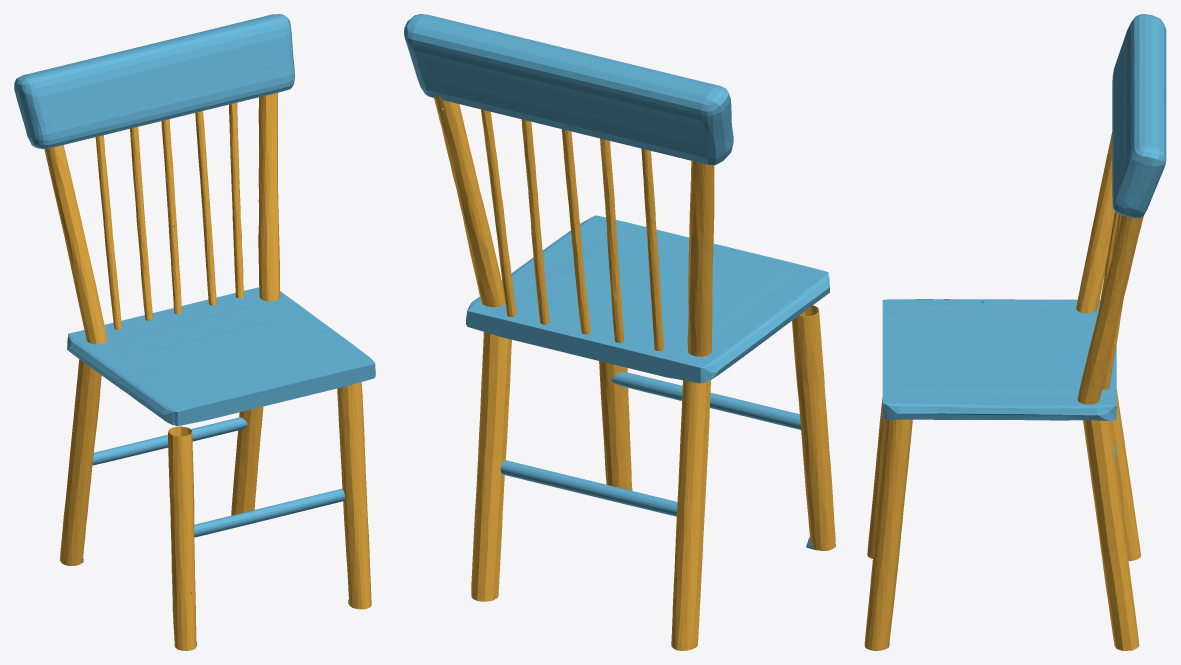
Rendered from method-volumes.glb.
The picture shows the model from 3 angles, left to right: view 1: azimuth 30°, elevation 25°; view 2: azimuth 150°, elevation 25°; view 3: azimuth 270°, elevation 25°; orthographic projection. The views are drawn at different scales.
Visible parts, largest first — view 1: Volume A · part 2, Volume A · part 1, Volume B · part 12, Volume B · part 6, Volume B · part 7, Volume B · part 5, Volume B · part 15, Volume B · part 13, Volume A · part 3, Volume A · part 4, Volume B · part 8, Volume B · part 14 (+3 smaller); view 2: Volume A · part 2, Volume A · part 1, Volume B · part 7, Volume B · part 13, Volume B · part 6, Volume B · part 15, Volume B · part 5, Volume B · part 12, Volume A · part 4, Volume A · part 3, Volume B · part 14, Volume B · part 9 (+3 smaller); view 3: Volume A · part 2, Volume A · part 1, Volume B · part 13, Volume B · part 12, Volume B · part 15, Volume B · part 5, Volume B · part 7, Volume B · part 6.
Part boxes in pixels (x1,y1,x2,y2): Volume A · part 2: (67, 287, 375, 426); Volume A · part 1: (14, 14, 294, 148); Volume B · part 12: (337, 382, 371, 609); Volume B · part 6: (168, 426, 196, 650); Volume B · part 7: (60, 359, 101, 565); Volume B · part 5: (44, 145, 107, 344); Volume B · part 15: (258, 92, 280, 301); Volume B · part 13: (231, 406, 263, 524); Volume A · part 3: (194, 488, 349, 645); Volume A · part 4: (82, 417, 247, 562); Volume B · part 8: (95, 135, 121, 329); Volume B · part 14: (229, 102, 243, 298); Volume A · part 2: (466, 215, 829, 383); Volume A · part 1: (404, 14, 733, 165); Volume B · part 7: (671, 380, 710, 650); Volume B · part 13: (471, 332, 511, 601); Volume B · part 6: (792, 305, 835, 550); Volume B · part 15: (434, 96, 505, 307); Volume B · part 5: (687, 161, 714, 356); Volume B · part 12: (599, 361, 632, 490); Volume A · part 4: (500, 460, 677, 516); Volume A · part 3: (611, 371, 816, 550); Volume B · part 14: (481, 109, 516, 316); Volume B · part 9: (600, 138, 623, 342); Volume A · part 2: (882, 299, 1116, 420); Volume A · part 1: (1112, 14, 1166, 218); Volume B · part 13: (1083, 420, 1139, 650); Volume B · part 12: (864, 419, 912, 650); Volume B · part 15: (1077, 215, 1143, 404); Volume B · part 5: (1076, 132, 1114, 313); Volume B · part 7: (1110, 389, 1140, 561); Volume B · part 6: (867, 397, 885, 558).
Size of the model in its own units: 0.5792 by 1 by 0.5223.
